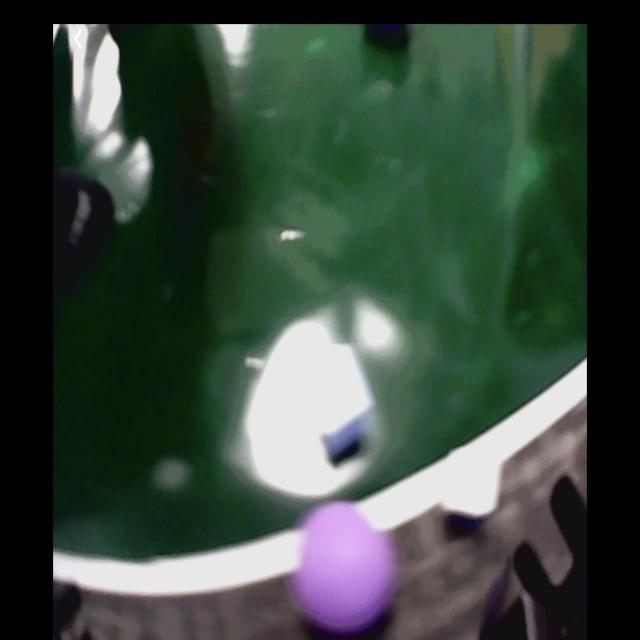ball: (301, 503, 393, 636)
